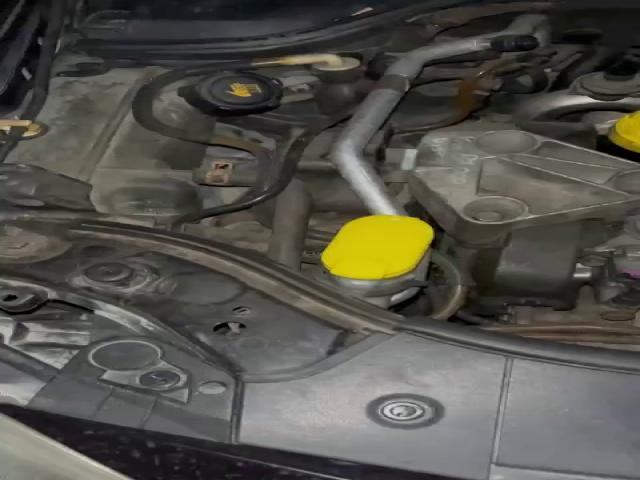antifreeze_tank: (7, 67, 230, 216), (157, 71, 280, 135)
